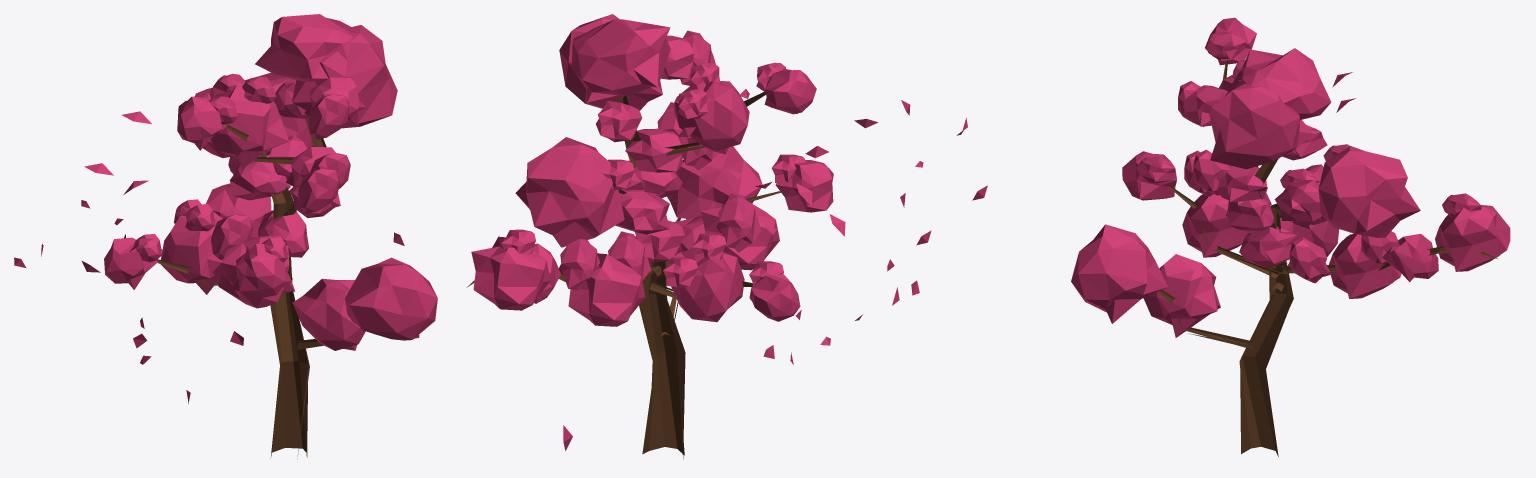
The model's file is tree-blossom-2.glb.
3 renders of one model, left to right at view 1: azimuth 30°, elevation 25°; view 2: azimuth 150°, elevation 25°; view 3: azimuth 270°, elevation 25°, orthographic. The views are drawn at different scales.
Visible parts, largest first — view 1: ??????????; view 2: ??????????; view 3: ??????????.
Part boxes in pixels (x1,y1,x2,y2): ??????????: [14, 14, 437, 458]; ??????????: [466, 14, 987, 459]; ??????????: [1071, 17, 1510, 456].
Bounding box in the file's own units: 121 × 150 × 166.
